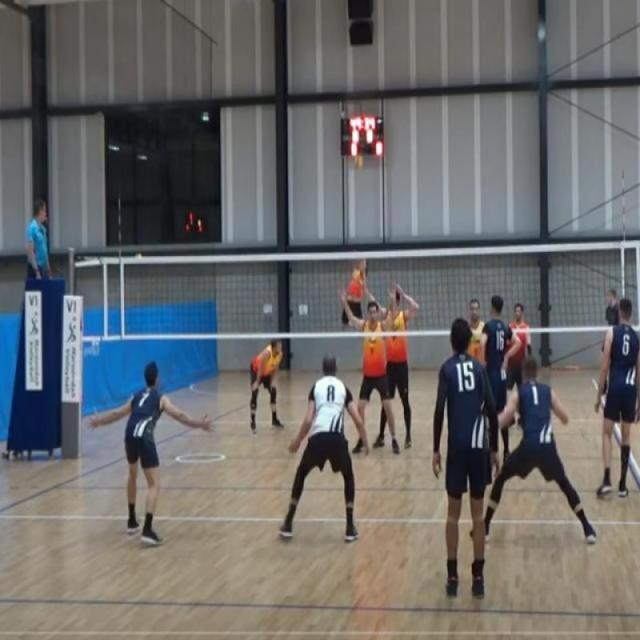volleyball: (353, 152, 365, 172)
